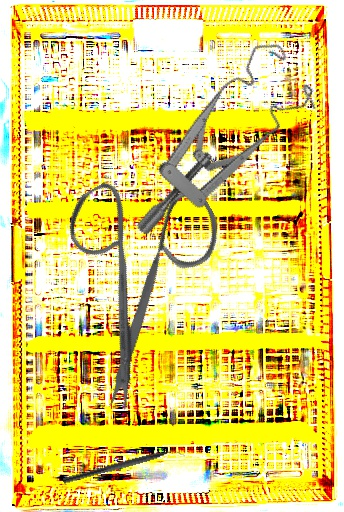Chopper: (62, 444, 186, 492)
Iris Scissors: (11, 142, 277, 417)
Speculum: (87, 31, 341, 239)
